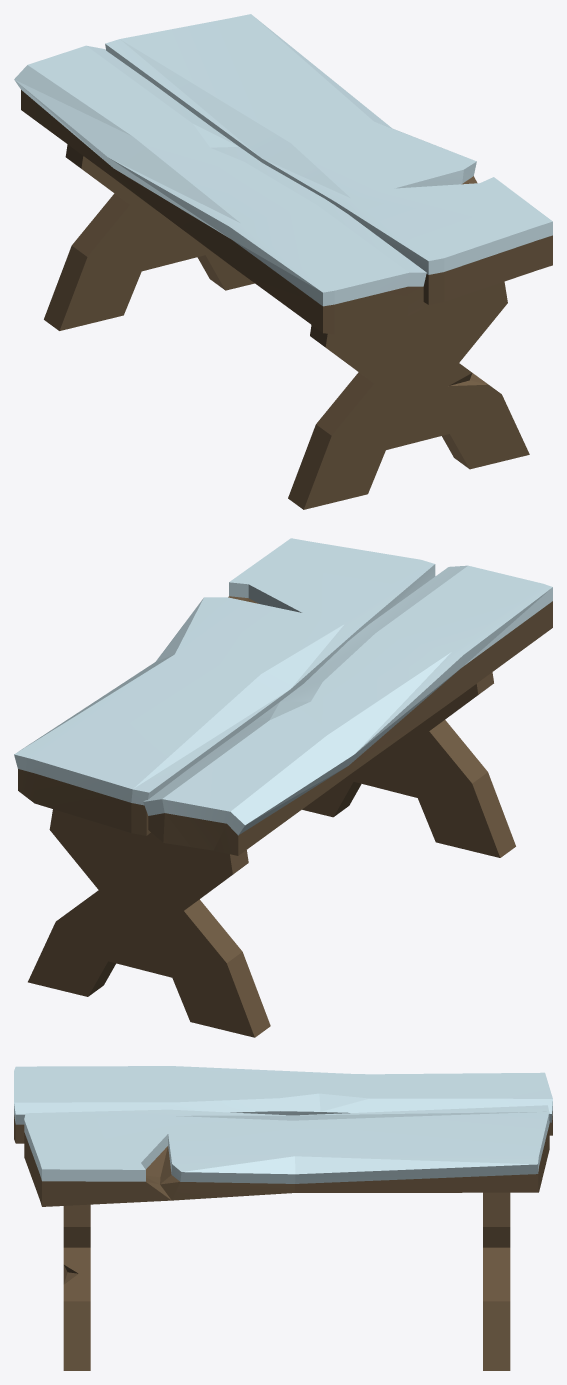
Rendered from Asiento01.glb.
3 views of the same model, one above another, from view 1: azimuth 30°, elevation 25°; view 2: azimuth 150°, elevation 25°; view 3: azimuth 270°, elevation 25° (orthographic). The views are drawn at different scales.
Parts seen in each view (by area): view 1: SM_Prop_Seat_01_Snow; view 2: SM_Prop_Seat_01_Snow; view 3: SM_Prop_Seat_01_Snow.
Part boxes in pixels (box(x1,y1,x2,y2)): SM_Prop_Seat_01_Snow: box(14, 14, 552, 509); SM_Prop_Seat_01_Snow: box(14, 538, 552, 1037); SM_Prop_Seat_01_Snow: box(14, 1066, 552, 1370).
Size of the model in its own units: 0.6721 by 0.5945 by 1.41.
Materials: 1 (1 with a texture image).
